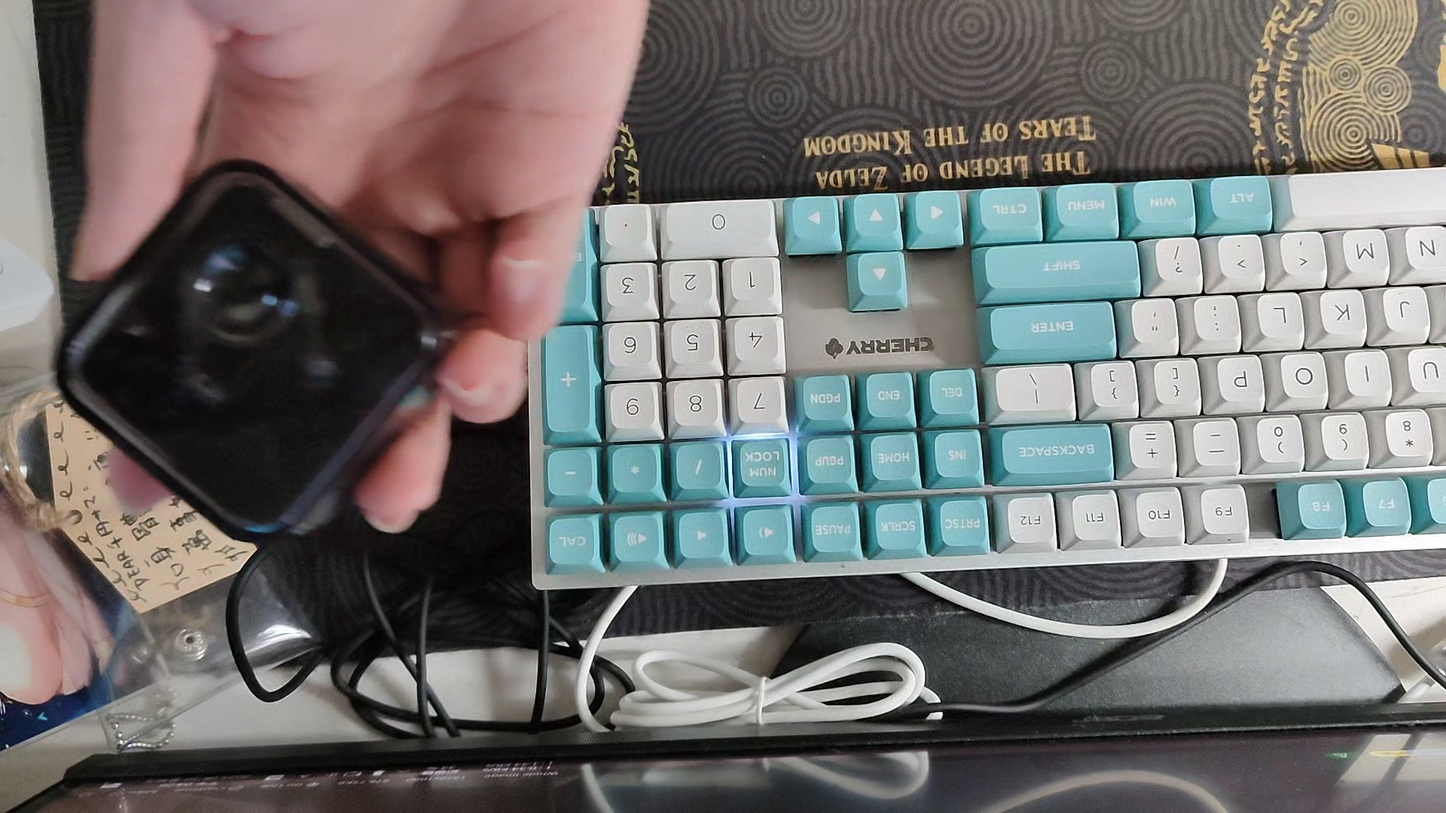Wireless_earphone: (53, 156, 454, 541)
